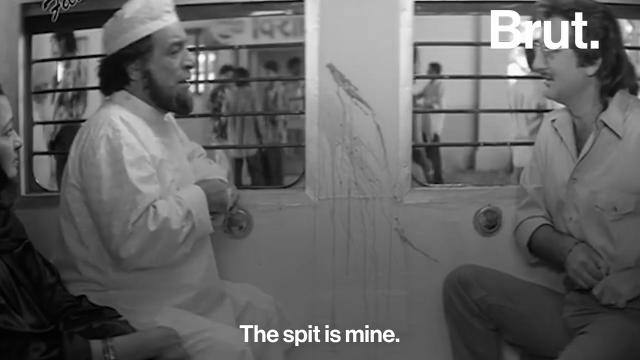spit: (319, 71, 401, 229)
